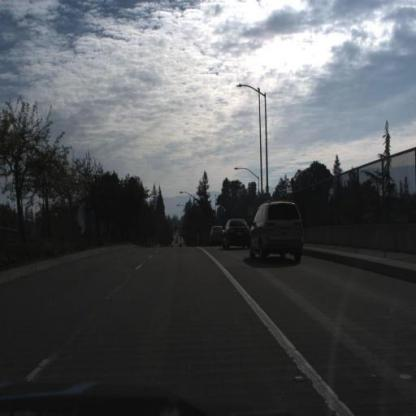car: (250, 199, 303, 264), (222, 218, 252, 250), (223, 219, 250, 252), (208, 225, 225, 246), (211, 225, 223, 248)
